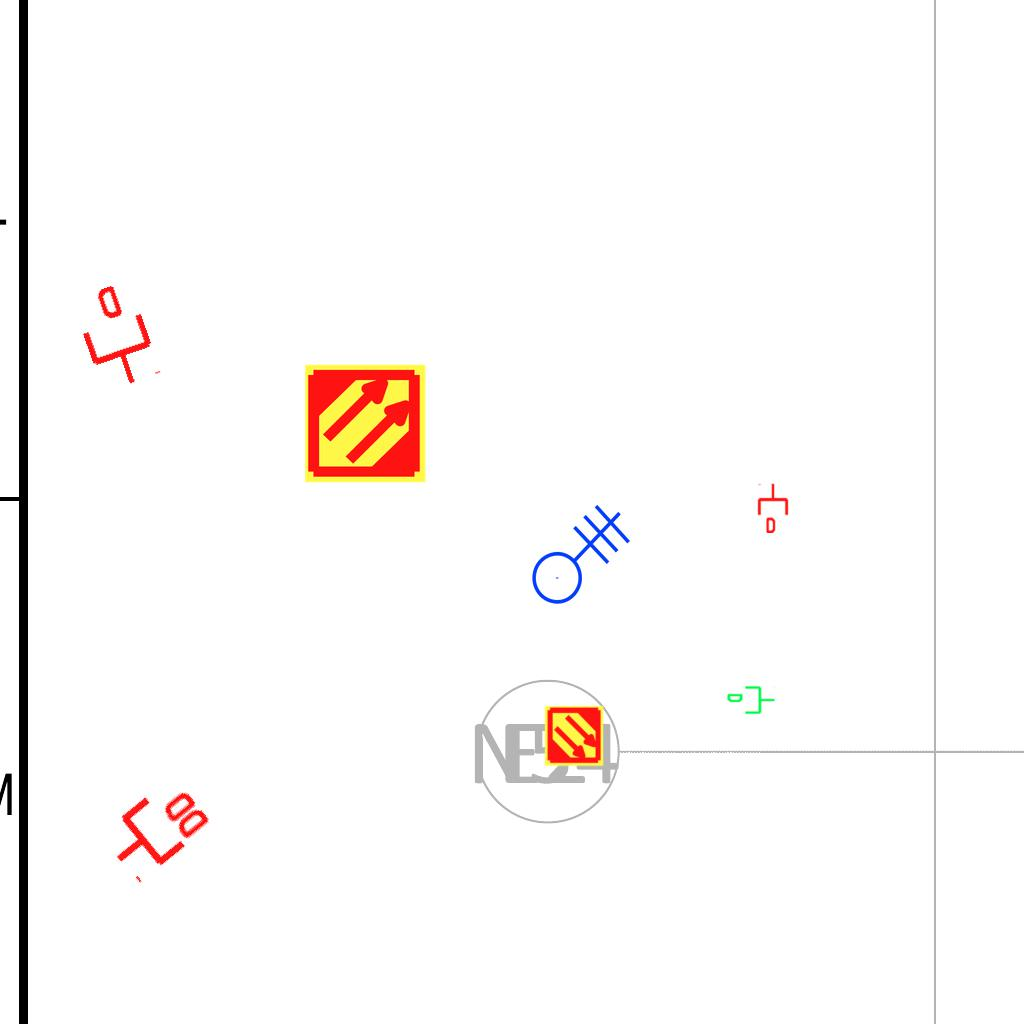ASR_Ansaugrauchmelder: (303, 361, 428, 486), (543, 705, 605, 767)
Datenanschluss_einfach: (67, 278, 166, 396), (756, 483, 790, 533), (726, 684, 776, 718)
Datenanschluss_zweifach: (93, 768, 218, 887)
Elektroanschluss_allgemein_400V_Geraeteanschlussdose_400V: (515, 492, 631, 605)
